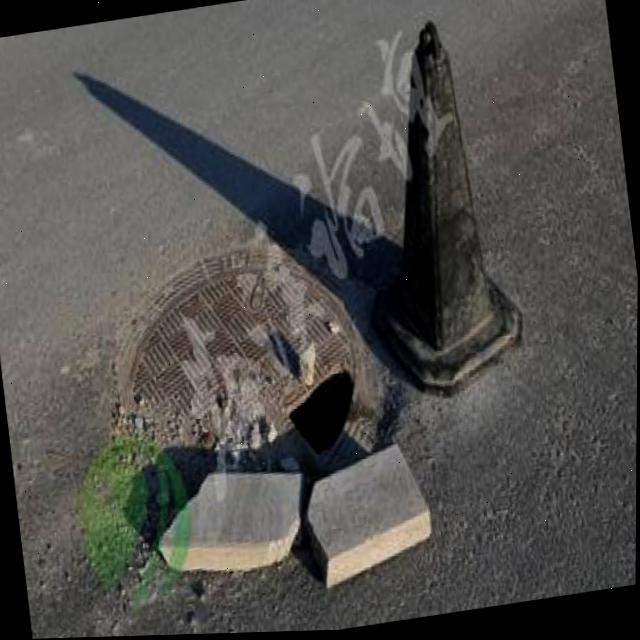manhole: (94, 225, 394, 518)
